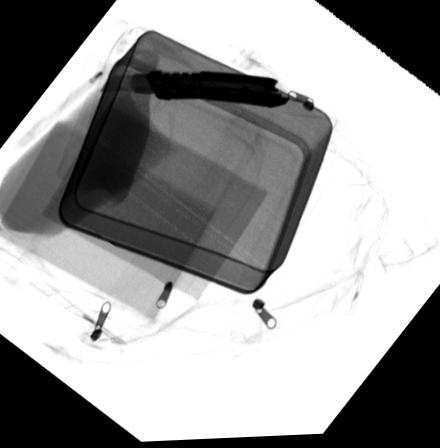Knife: (97, 69, 291, 109)
